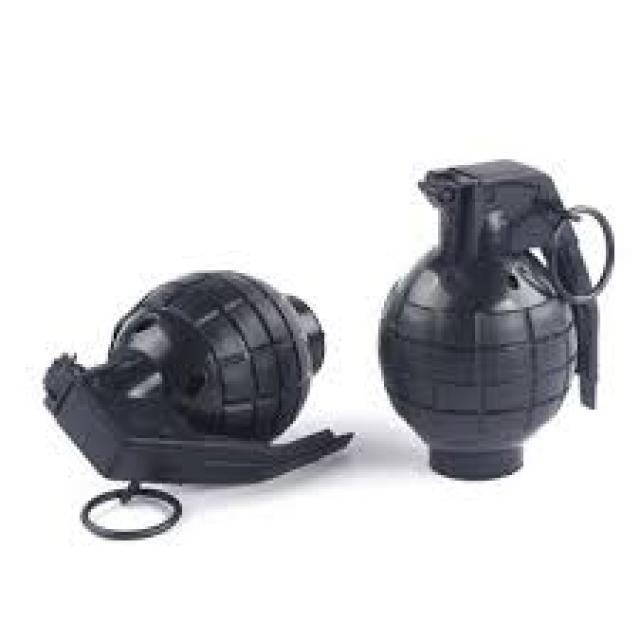grenade: (41, 266, 364, 543), (372, 151, 623, 487)
